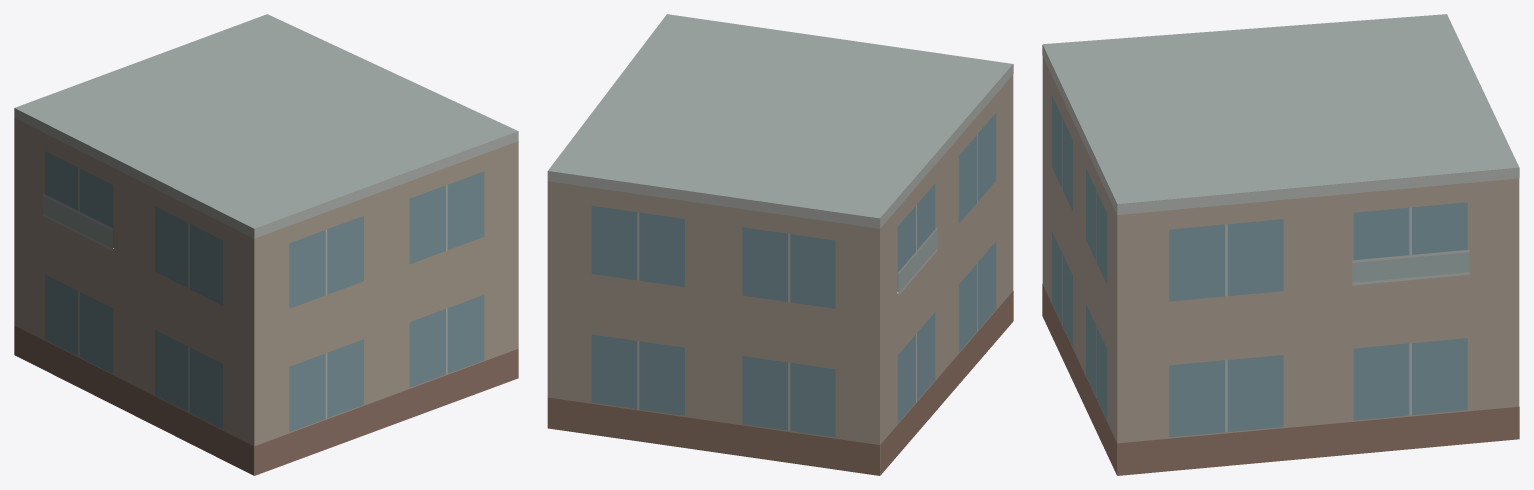
File: survey-upis-32500136.glb
3 renders of one model, left to right at view 1: azimuth 30°, elevation 25°; view 2: azimuth 150°, elevation 25°; view 3: azimuth 270°, elevation 25°, orthographic. The views are drawn at different scales.
Visible parts, largest first — view 1: survey-upis-32500136.tmp; view 2: survey-upis-32500136.tmp; view 3: survey-upis-32500136.tmp.
Part boxes in pixels (<box>): survey-upis-32500136.tmp: <box>14,14,518,475</box>; survey-upis-32500136.tmp: <box>547,14,1013,475</box>; survey-upis-32500136.tmp: <box>1042,14,1519,475</box>.
Size of the model in its own units: 9.17 by 6.1 by 9.72.
